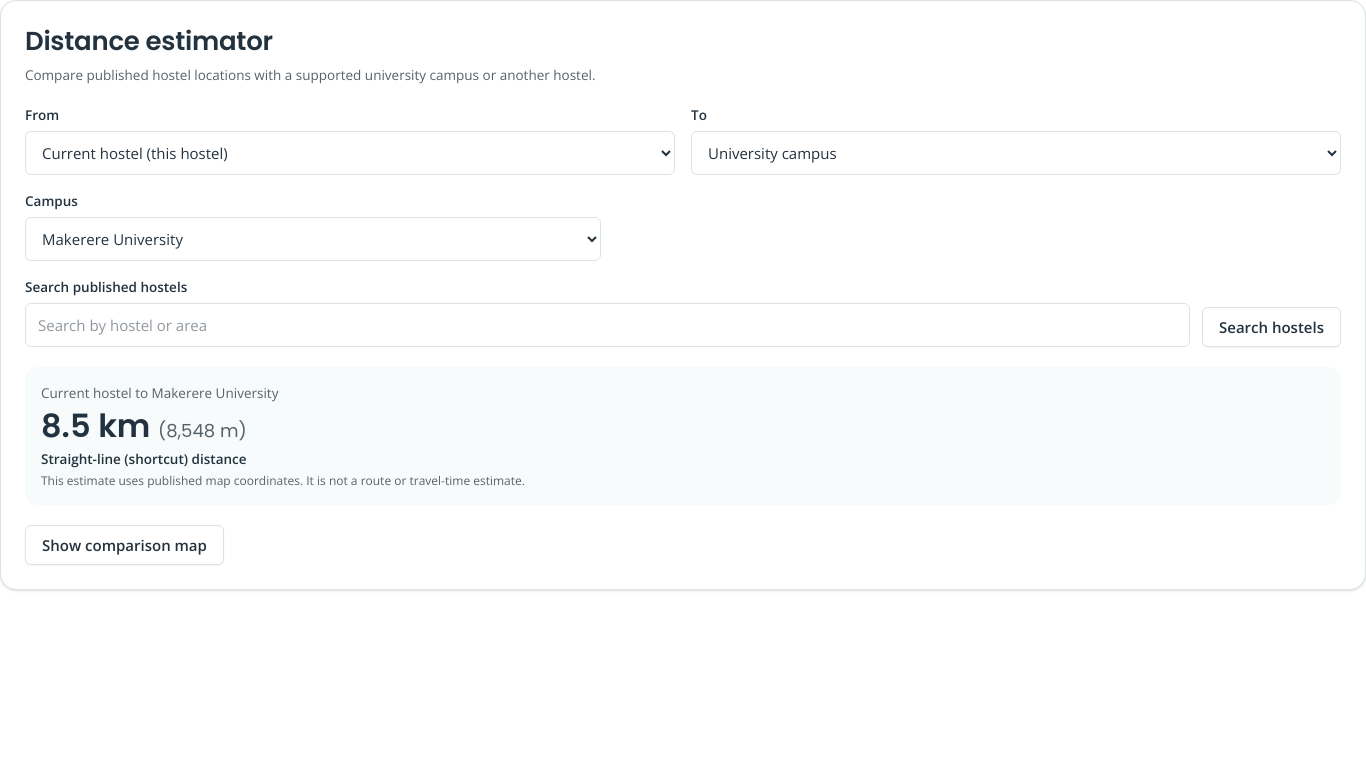
Test: DistanceEstimator › lets the user choose another published hostel and prevents the same pair
Select "Another published hostel" in the dropdown with id "distance-destination-kind" at (1016, 153), box [691,131,1341,175]
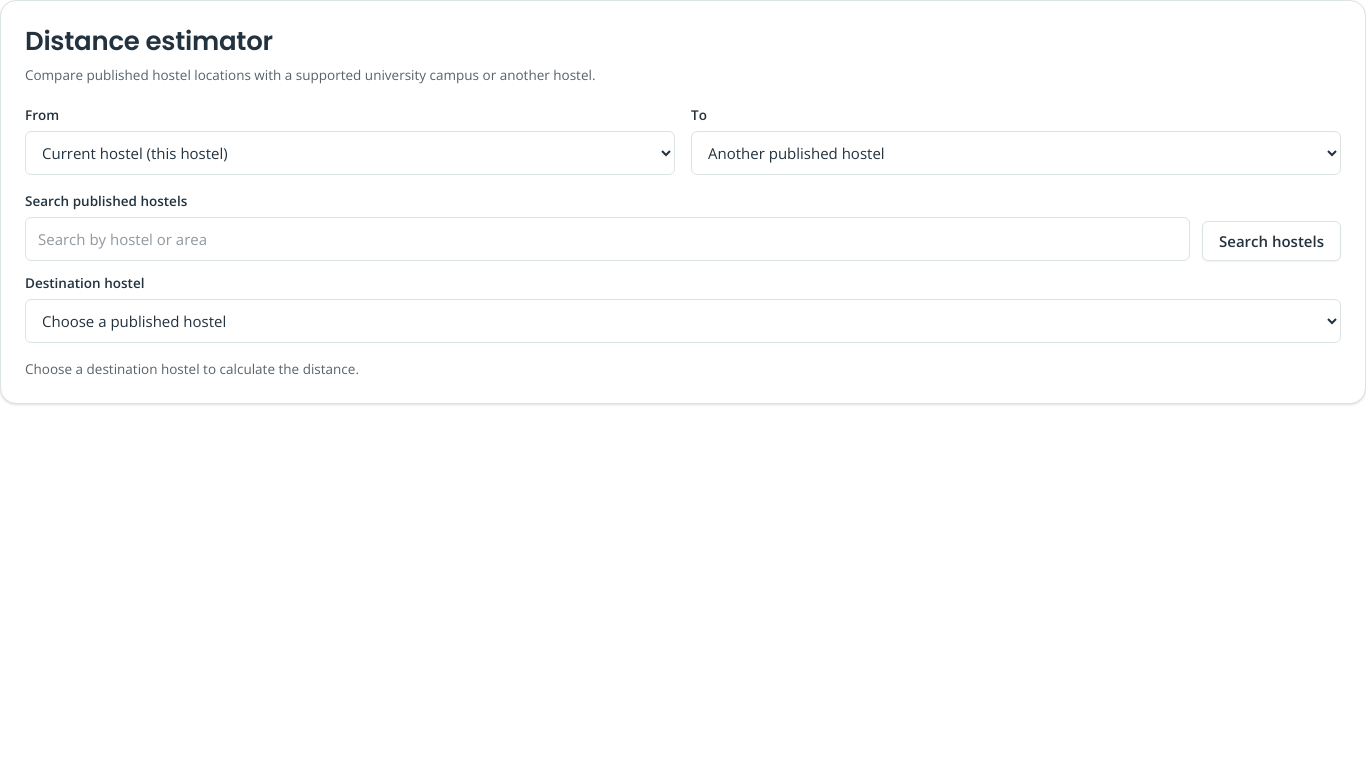
Select "Other published hostel" in the dropdown with id "distance-hostel" at (683, 321), box [25,299,1341,343]
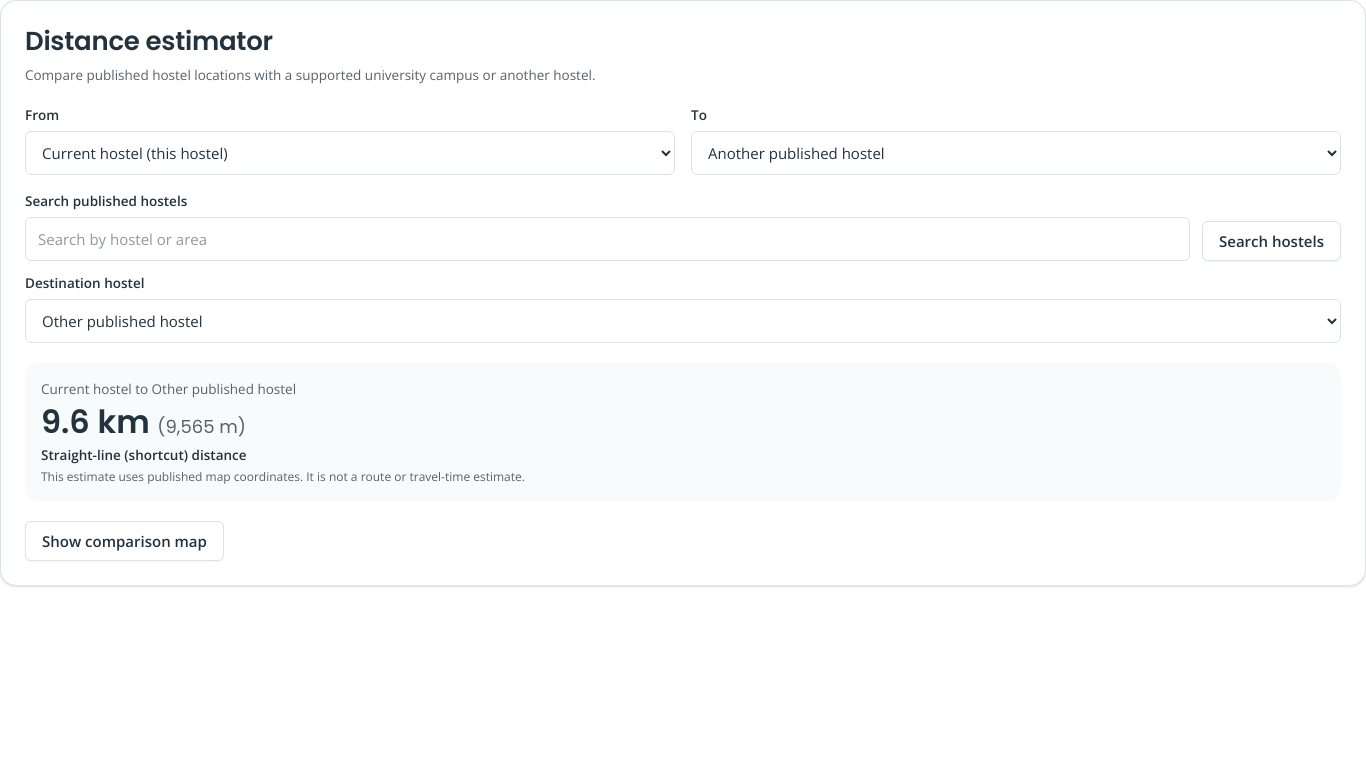
Result: the text "Other published hostel" is shown at [152,380,296,398]
Result: the text "Straight-line (shortcut) distance" is shown at [41,446,246,464]
